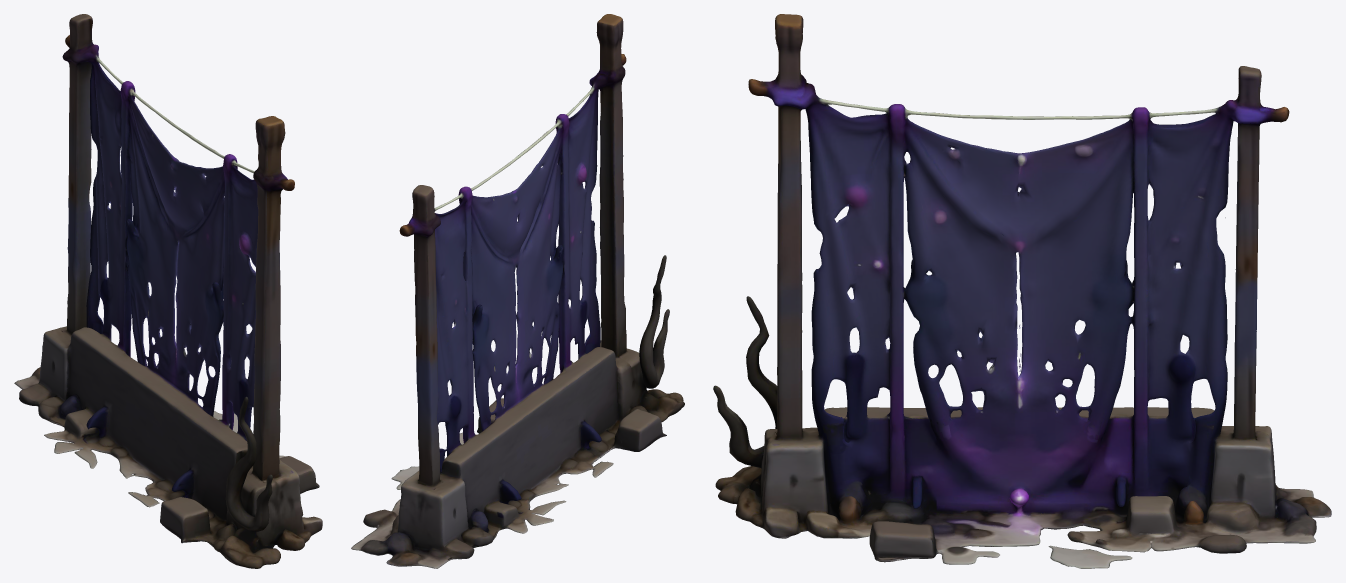
Rendered from SM_Prop_TornFabricBarrier_01.fbx.
3 renders of one model, left to right at view 1: azimuth 30°, elevation 25°; view 2: azimuth 150°, elevation 25°; view 3: azimuth 270°, elevation 25°, orthographic. The views are drawn at different scales.
Visible parts, largest first — view 1: SM_Prop_TornFabricBarrier_01; view 2: SM_Prop_TornFabricBarrier_01; view 3: SM_Prop_TornFabricBarrier_01.
Boxes of the visible parts, x1,y1,x2,y2 form: SM_Prop_TornFabricBarrier_01: [14, 14, 322, 568]; SM_Prop_TornFabricBarrier_01: [351, 14, 684, 568]; SM_Prop_TornFabricBarrier_01: [713, 14, 1331, 568].
Size of the model in its own units: 0.3934 by 0.8819 by 0.9953.
Materials: 1 (1 with a texture image).
